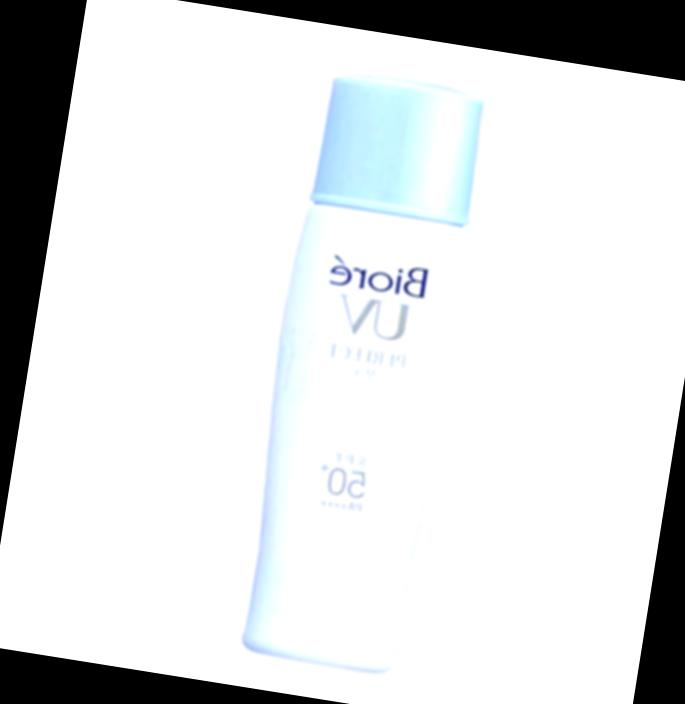cosmetic: (232, 75, 492, 672)
